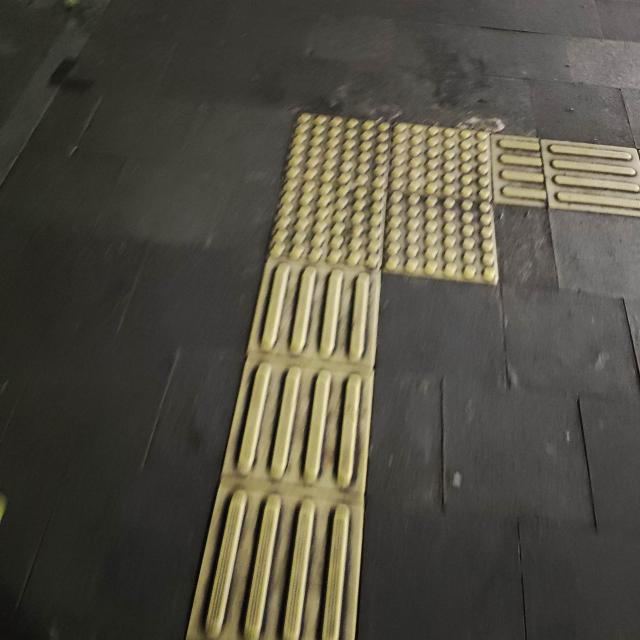kanan: (245, 74, 629, 341)
